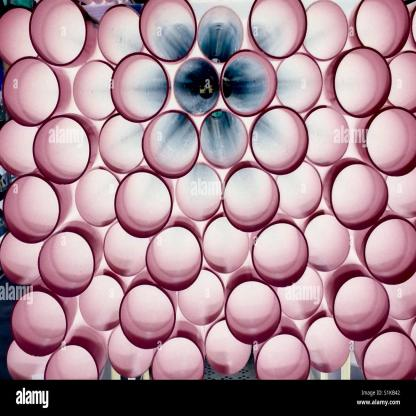PVC: (3, 3, 415, 378)
